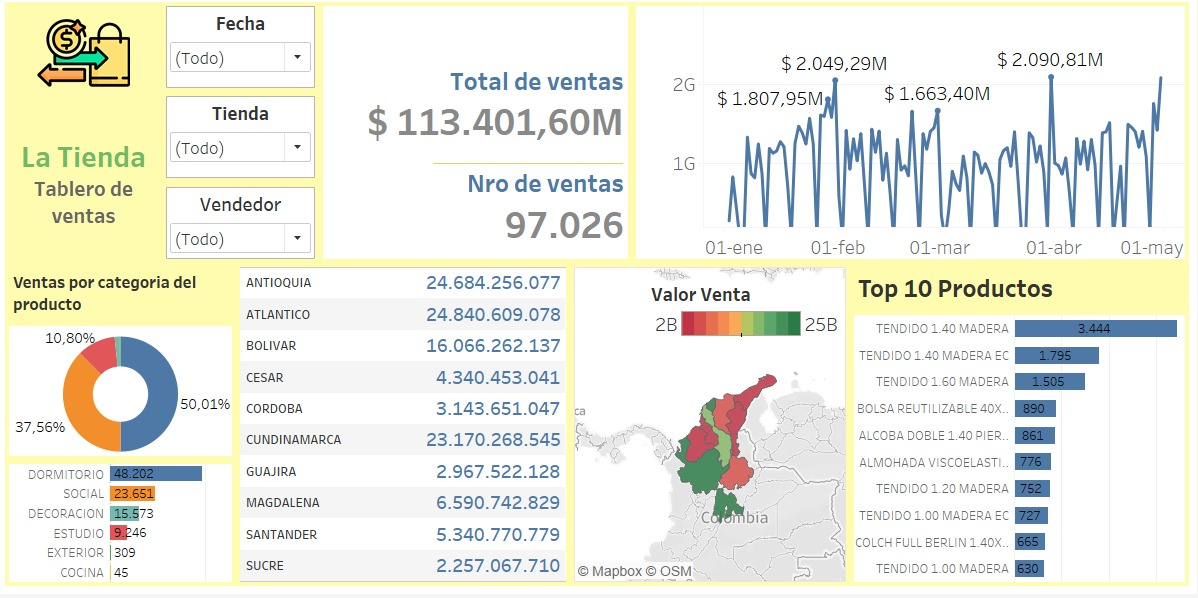

This screenshot's page, from the dashboard's own definition file:
{"tool":"tableau","page":{"name":"Tablero de ventas","canvas":[1200,600],"ordinal":0},"visuals":[{"type":"image","param":"C:/Users/LENOVO/Downloads/6633320.png","box":[8,8,157,101]},{"type":"filter","title":"Total de Ventas","param":"[federated.0knkoek0p9oper14b919z156fzhn].[my:fecha:ok]","box":[165,8,157,90.5]},{"type":"worksheet","title":"Total de Ventas","mark":"Automatic","box":[322,8,313,261]},{"type":"worksheet","title":"Ventas por dia","mark":"Automatic","rows":["valor_venta"],"cols":["fecha"],"box":[634.5,8,557.5,261]},{"type":"filter","title":"Total de Ventas","param":"[federated.0knkoek0p9oper14b919z156fzhn].[none:nombre_tienda:nk]","box":[165,98.5,157,90.5]},{"type":"text","box":[8,109,157,160]},{"type":"filter","title":"Total de Ventas","param":"[federated.0knkoek0p9oper14b919z156fzhn].[none:nombre_vendedor:nk]","box":[165,189,157,80]},{"type":"worksheet","title":"Ventas por categoria del producto","mark":"Pie","rows":["Calculation_825003170207698946","Calculation_825003170208518148"],"box":[8,269,231,197]},{"type":"worksheet","title":"Ventas x Dpto","mark":"Automatic","rows":["departamento"],"box":[239,269,334,323]},{"type":"worksheet","title":"mapa de ventas","mark":"Multipolygon","box":[573,269,280,323]},{"type":"worksheet","title":"Top 10 Productos","mark":"Automatic","rows":["nombre_producto"],"cols":["VENTAS(in).csv_998C95F80BEC450681A398454EDEE30D"],"box":[853,269,339,323]},{"type":"legend","title":"mapa de ventas","param":"[federated.0knkoek0p9oper14b919z156fzhn].[sum:valor_venta:qk]","box":[654,287,192,61]},{"type":"worksheet","title":"Categoria ventas x categoria","mark":"Automatic","rows":["categoria_producto"],"cols":["VENTAS(in).csv_998C95F80BEC450681A398454EDEE30D"],"box":[8,466,231,126]}]}

Visuals, with their boxes in screenshot pixels (x1, y1, x2, y2), scaled from the page's 1200x600 canvas onto the 1198x598 screenshot:
image: BBox(8, 8, 165, 109)
"Total de Ventas" filter: BBox(165, 8, 321, 98)
"Total de Ventas" worksheet: BBox(321, 8, 634, 268)
"Ventas por dia" worksheet: BBox(633, 8, 1190, 268)
"Total de Ventas" filter: BBox(165, 98, 321, 188)
text: BBox(8, 109, 165, 268)
"Total de Ventas" filter: BBox(165, 188, 321, 268)
"Ventas por categoria del producto" worksheet (Pie marks): BBox(8, 268, 239, 464)
"Ventas x Dpto" worksheet: BBox(239, 268, 572, 590)
"mapa de ventas" worksheet (Multipolygon marks): BBox(572, 268, 852, 590)
"Top 10 Productos" worksheet: BBox(852, 268, 1190, 590)
"mapa de ventas" legend: BBox(653, 286, 845, 347)
"Categoria ventas x categoria" worksheet: BBox(8, 464, 239, 590)
